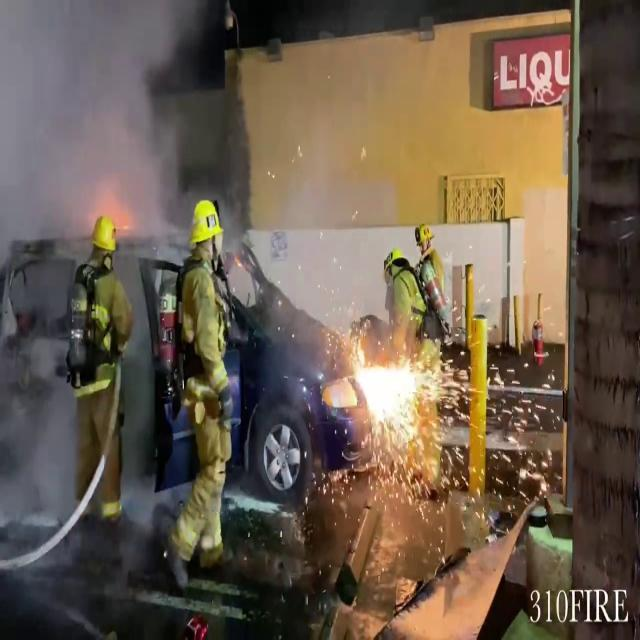Smoke: (0, 0, 192, 376)
